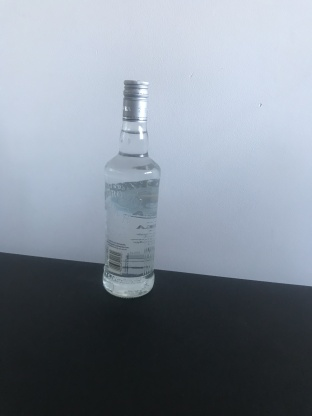nakretka: (121, 77, 150, 123)
